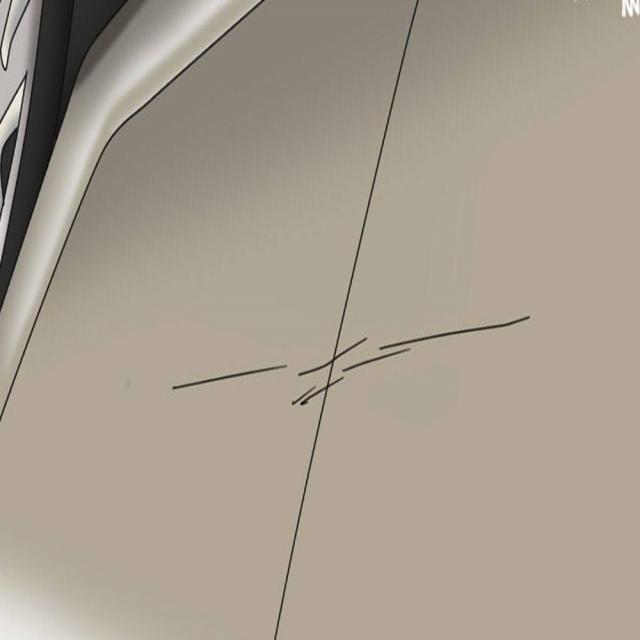scratch: (288, 302, 534, 421), (158, 348, 294, 401)
